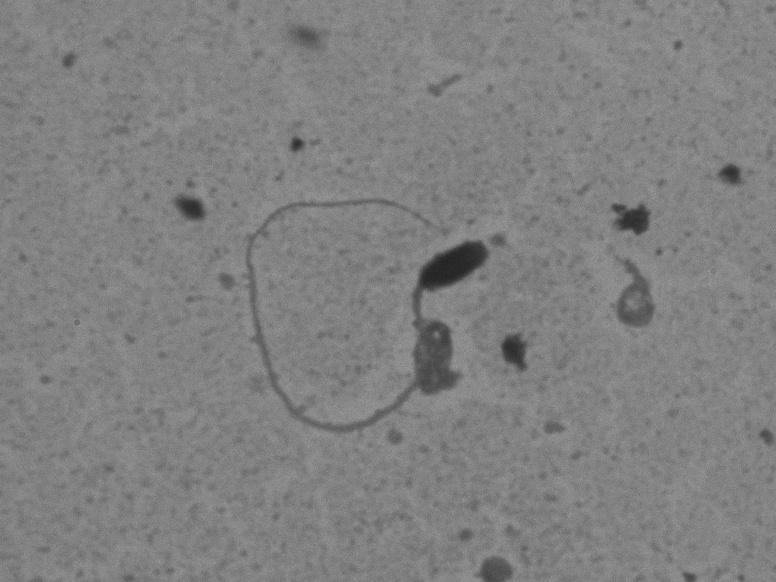Abnormal: (234, 166, 506, 450)
